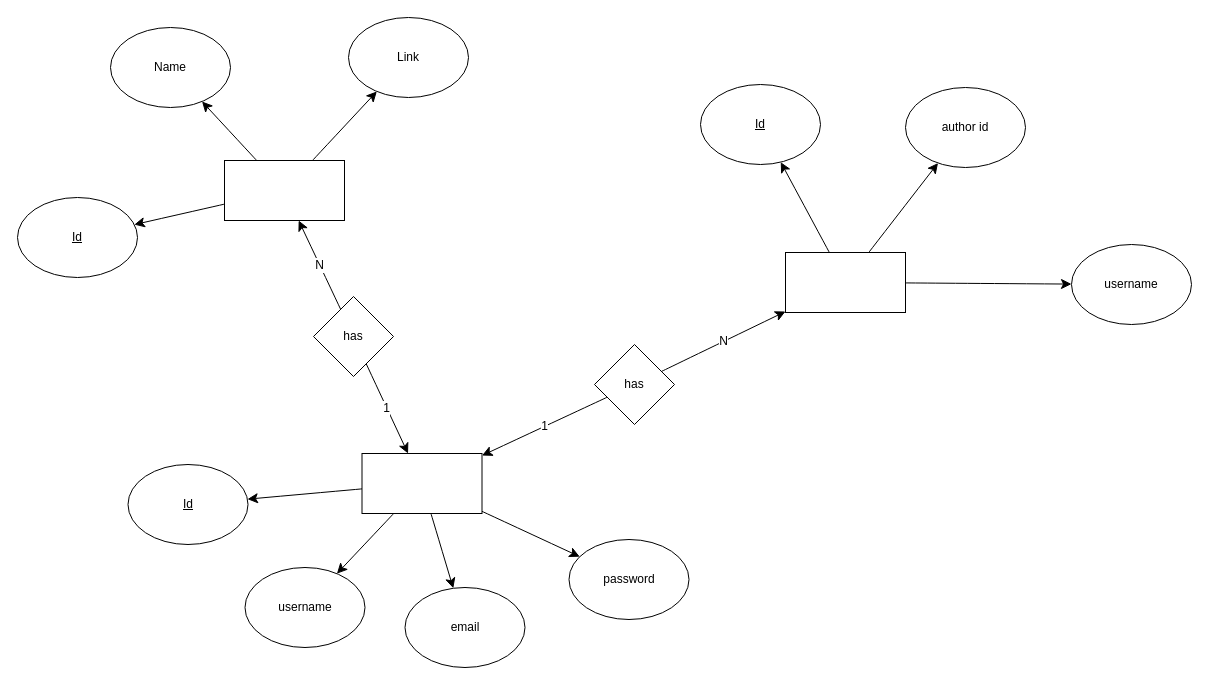
The diagram is 1209 pixels wide and 685 high, and some of its shapes have lost their labels. Here are the shapes that lost their labels. From the top down, the box of each, then its label:
(224, 160, 344, 220): download
(784, 252, 906, 312): Solution
(361, 452, 482, 514): users
